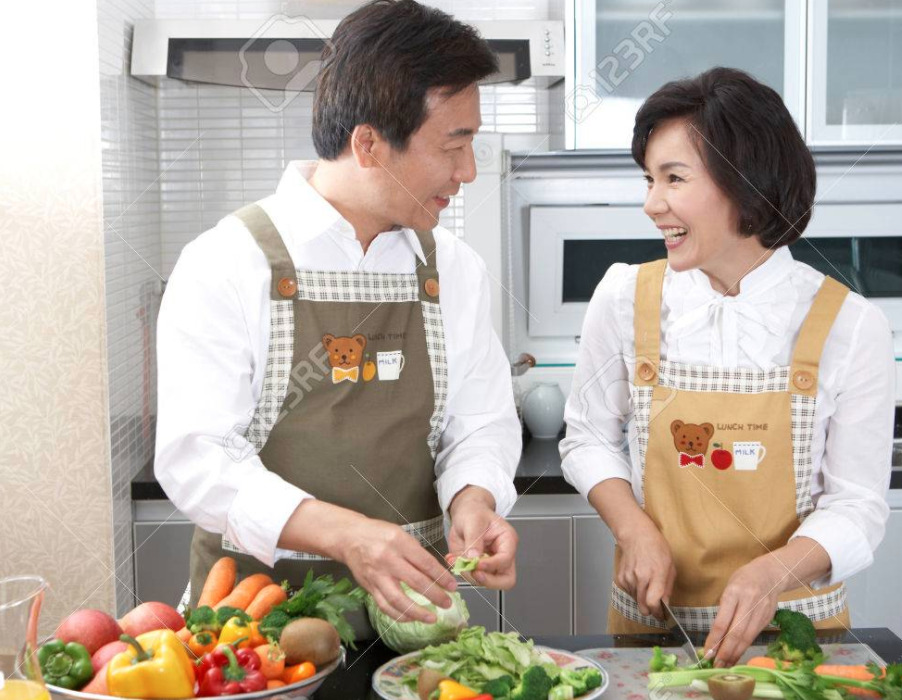Bad: (155, 1, 902, 556)
